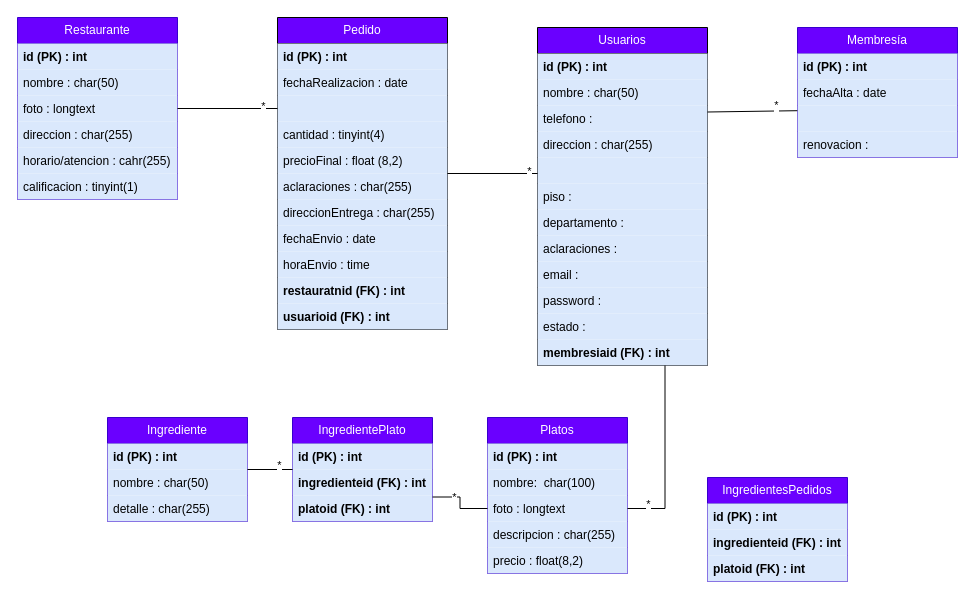
Image size: 975x602. Some labels were removed from this diagram. The centre of each missing label's shape, as x and y in pixels:
fechaVencimiento : date: the point at 877,118
horaRealizacion : time: the point at 362,108
numeroPuerta :: the point at 622,170
